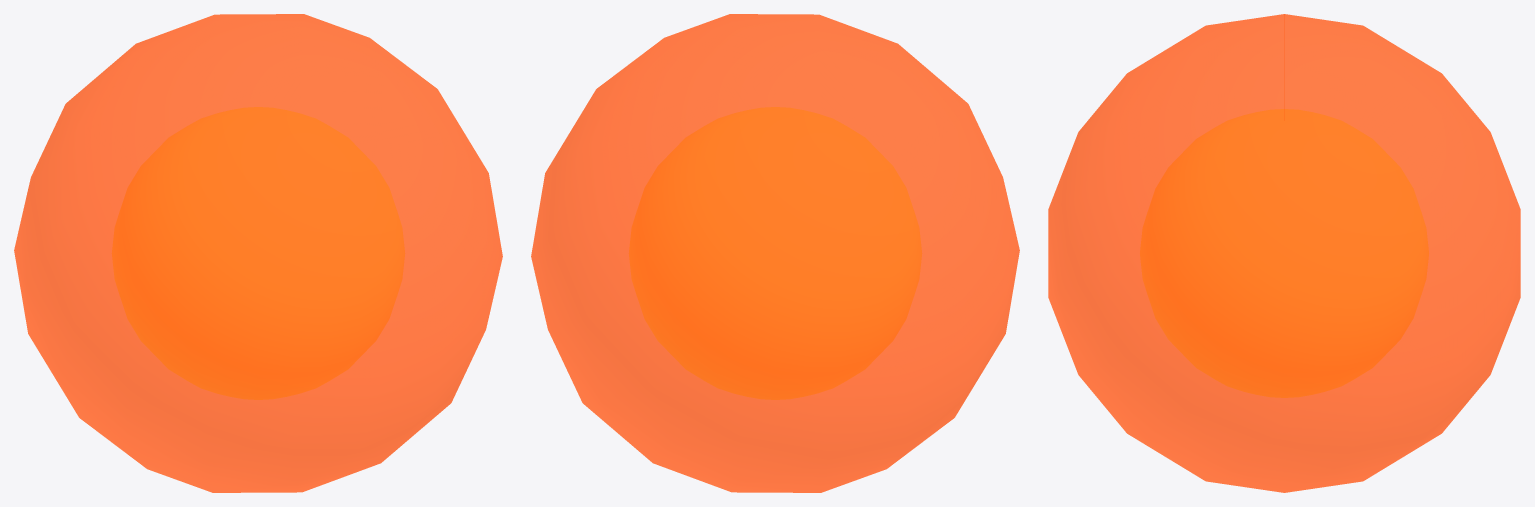
File: crash_fireball.glb
3 renders of one model, left to right at view 1: azimuth 30°, elevation 25°; view 2: azimuth 150°, elevation 25°; view 3: azimuth 270°, elevation 25°, orthographic.
Parts seen in each view (by area): view 1: Shell, Core; view 2: Shell, Core; view 3: Shell, Core.
Boxes of the visible parts, left/top/right/bottom form: Shell: left=14, top=14, right=502, bottom=492; Core: left=112, top=107, right=404, bottom=399; Shell: left=531, top=14, right=1019, bottom=492; Core: left=629, top=107, right=921, bottom=399; Shell: left=1048, top=14, right=1520, bottom=492; Core: left=1140, top=109, right=1428, bottom=397.
Bounding box in the file's own units: 0.0979 × 0.0979 × 0.0979.
